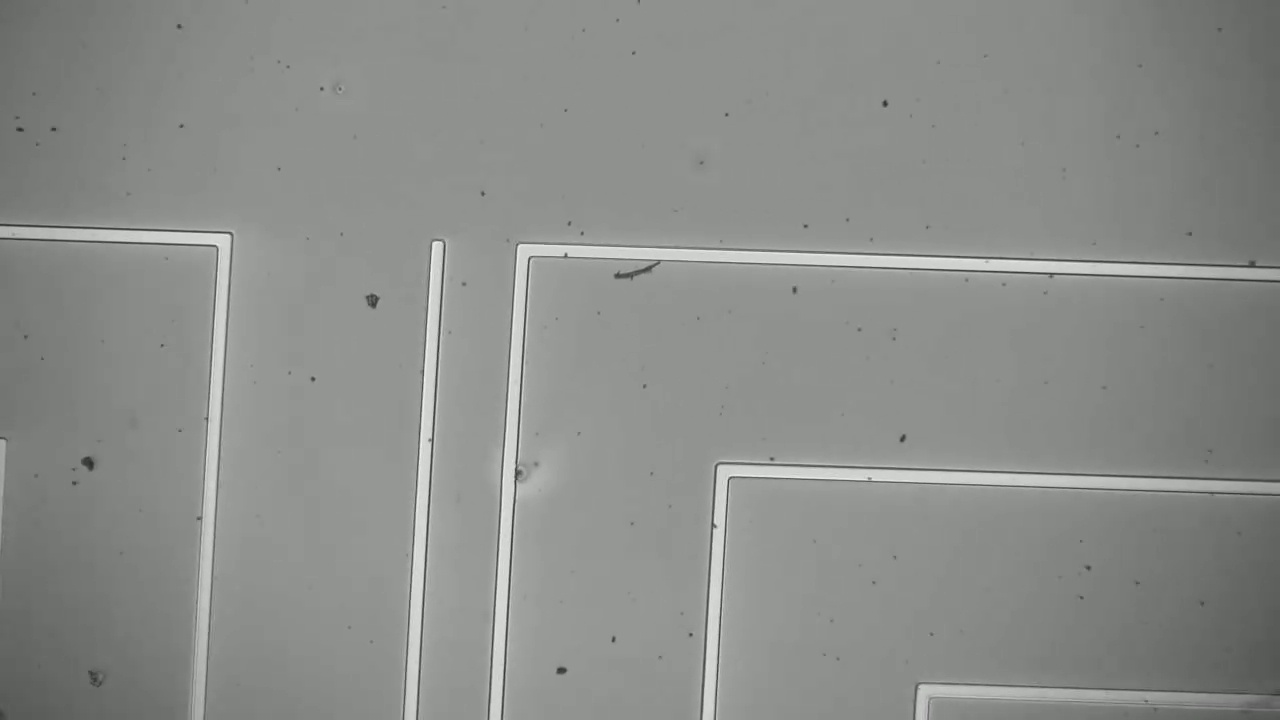stains_enbedded: (501, 461, 527, 487)
